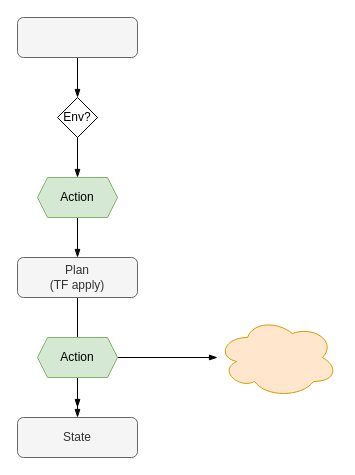
Some shapes in this 355 by 475 pixel diagram are drawn without their labels. Here are the shapes that lost their labels. From the top down, the centre of each, then its label:
the point at 77,37: Vars (GH commit)
the point at 277,357: Cloud Infrastructure
